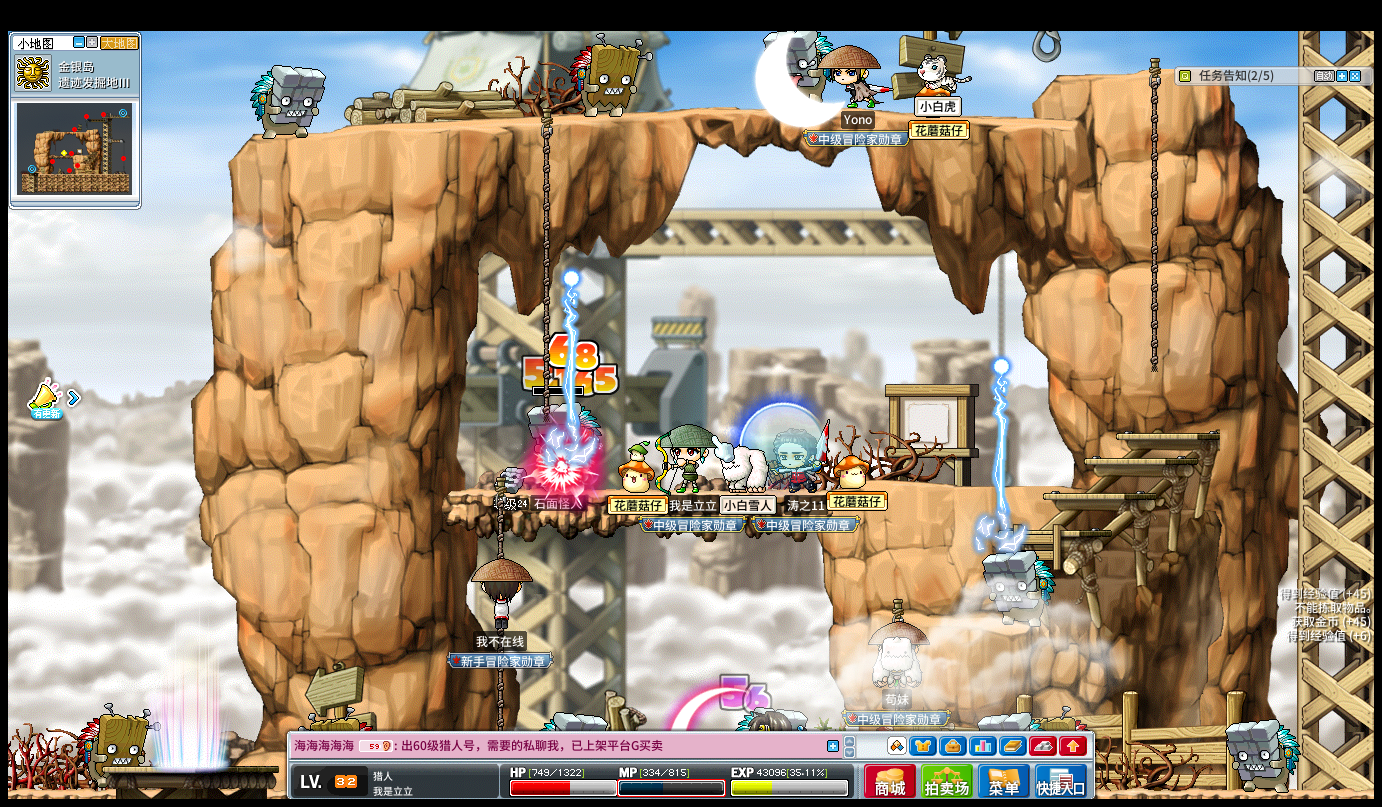floor: (251, 104, 1085, 138), (447, 487, 826, 499), (917, 615, 1037, 637), (1052, 67, 1169, 81), (904, 481, 1083, 490), (1114, 429, 1221, 441), (1077, 456, 1194, 464), (1043, 492, 1154, 500), (1004, 528, 1108, 536)
monster: (523, 401, 599, 486), (77, 706, 157, 786), (570, 32, 647, 114), (250, 63, 327, 139), (982, 550, 1054, 627), (1225, 719, 1299, 792), (784, 27, 828, 101)
rope: (1146, 56, 1160, 377), (540, 105, 551, 421), (541, 108, 551, 366), (492, 482, 505, 559), (492, 669, 503, 725), (494, 668, 503, 721)
